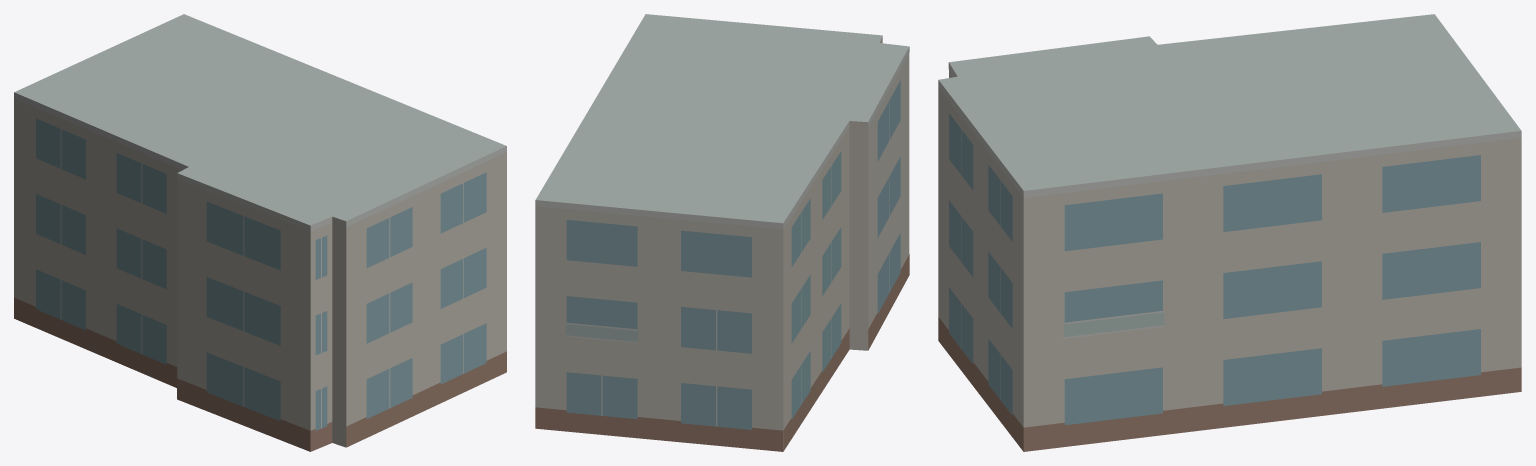
File: survey-upis-32568384.glb
The picture shows the model from 3 angles, left to right: view 1: azimuth 30°, elevation 25°; view 2: azimuth 150°, elevation 25°; view 3: azimuth 270°, elevation 25°; orthographic projection. The views are drawn at different scales.
Visible parts, largest first — view 1: survey-upis-32568384.tmp; view 2: survey-upis-32568384.tmp; view 3: survey-upis-32568384.tmp.
Boxes of the visible parts, x1,y1,x2,y2 form: survey-upis-32568384.tmp: (14, 14, 506, 451); survey-upis-32568384.tmp: (535, 14, 909, 451); survey-upis-32568384.tmp: (938, 14, 1521, 451).
Bounding box in the file's own units: 13.31 × 9.15 × 18.54.
